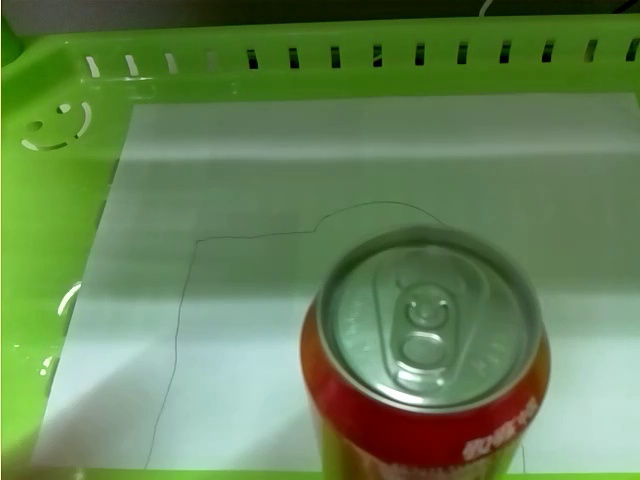cocacola: (298, 224, 551, 478)
